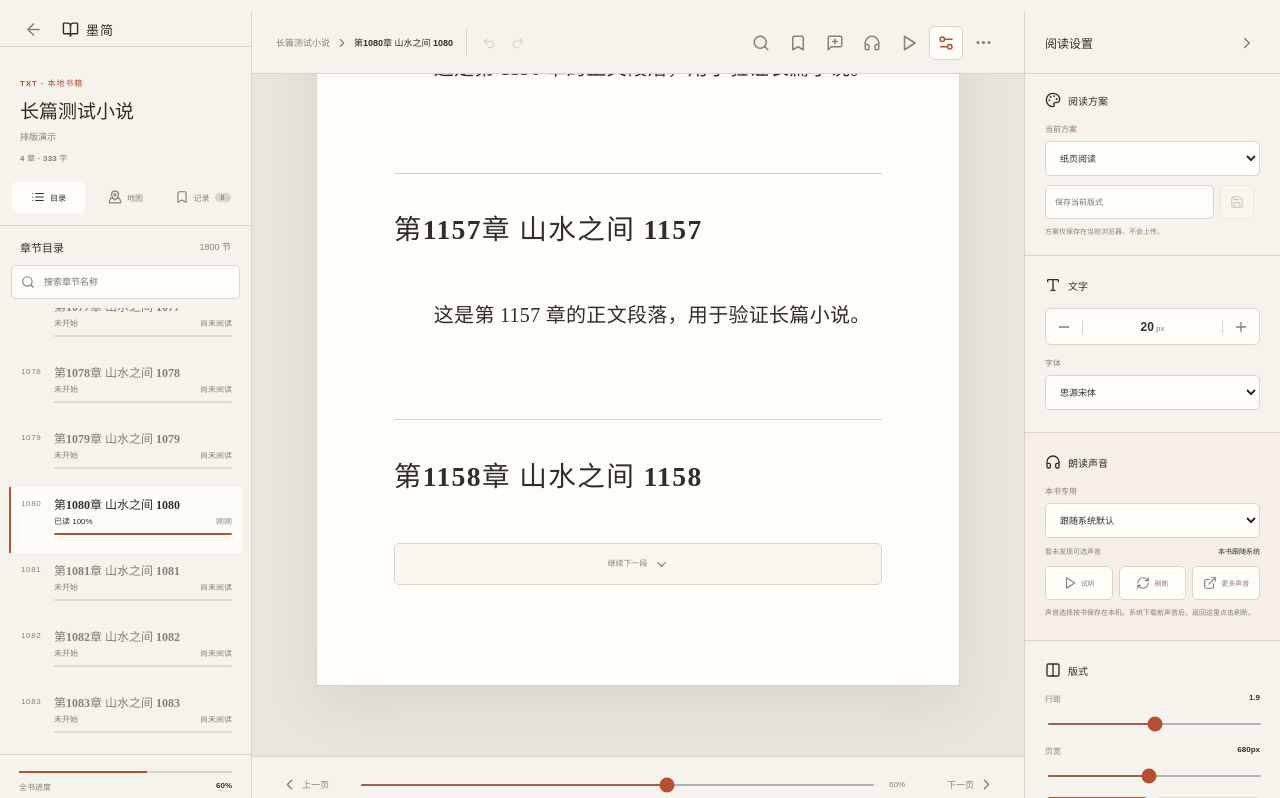
it: ReaderView interactions › renders a bounded paragraph window for very large novels and searches every chapter
The width and height of the screenshot is (1280, 798).
(page scrolled)
Expected: the button "1080 第1080章 山水之间 1080 已读 100% 刚刚" is shown, x1=9 y1=487 x2=242 y2=553
Click the button "继续下一段" at (638, 564), box x1=394 y1=543 x2=882 y2=585
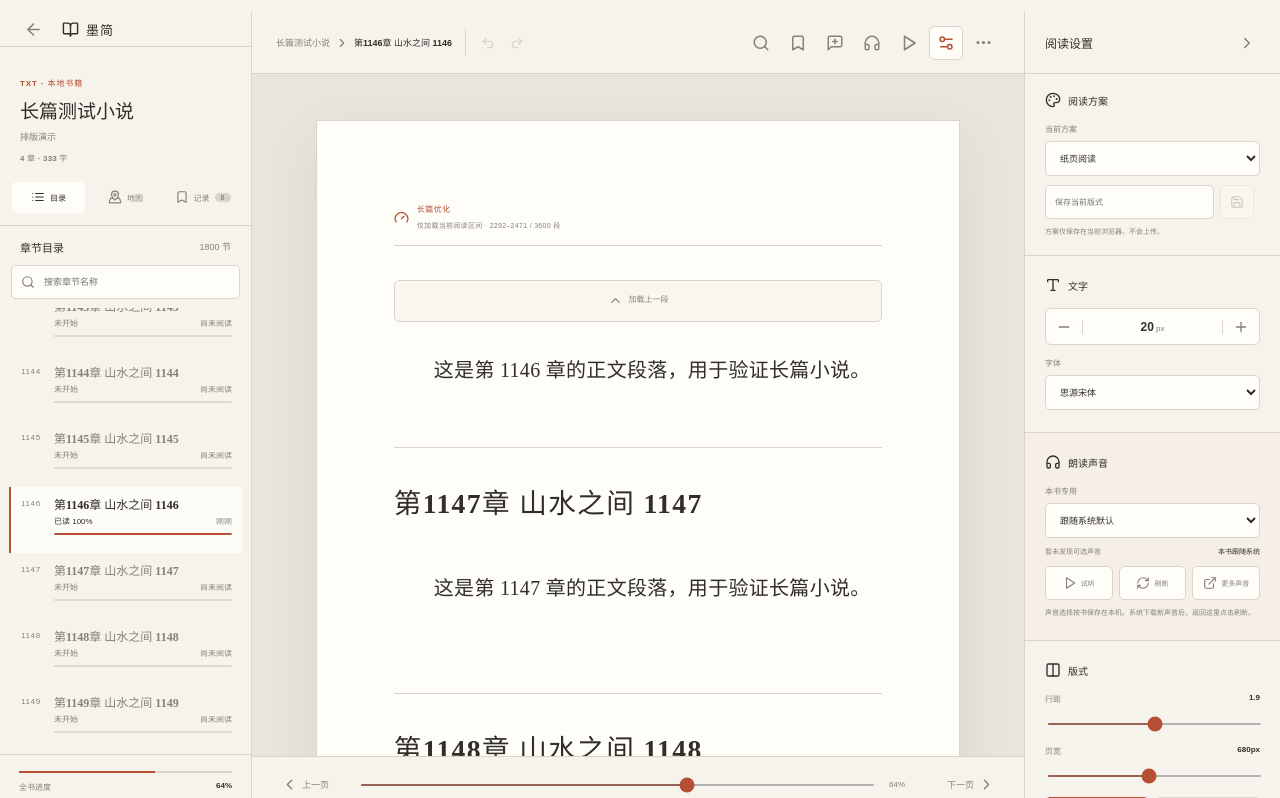
Now the button "加载上一段" is shown
Click the button "加载上一段" at (638, 301), box x1=394 y1=280 x2=882 y2=322
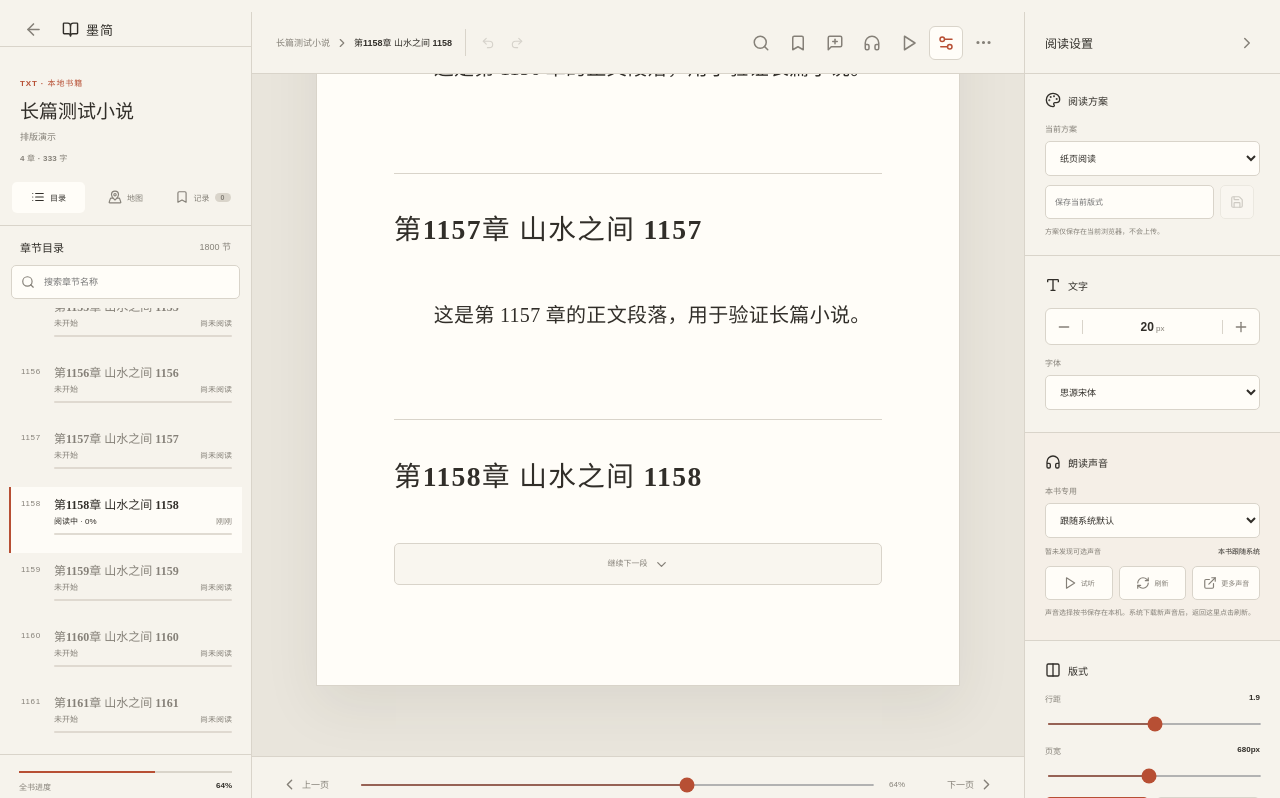
Type "第1799章" into the search field named "搜索目录" at (136, 282), box x1=42 y1=276 x2=230 y2=288
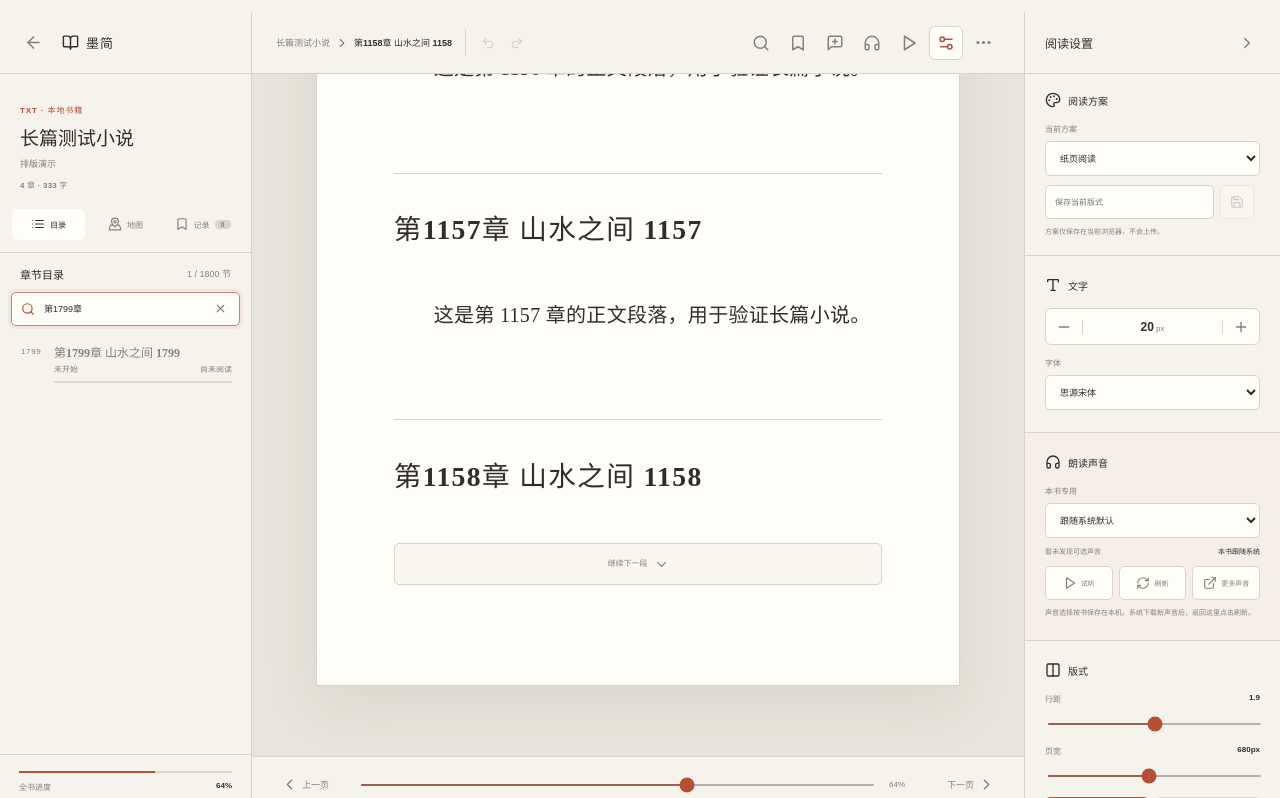
Now the text "1 / 1800 节" is shown, box x1=187 y1=267 x2=231 y2=280
Click the button "1799 第1799章 山水之间 1799 未开始 尚未阅读" at (126, 366), box x1=9 y1=335 x2=242 y2=397
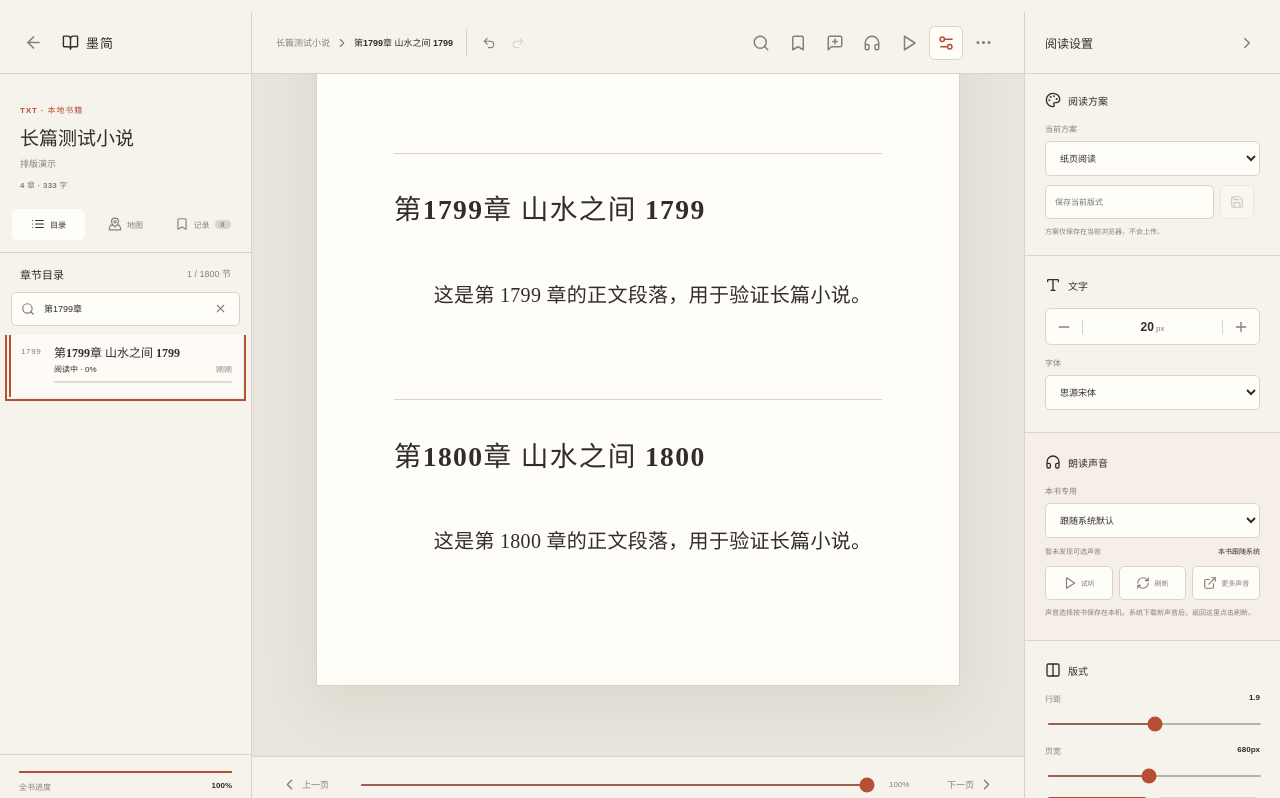
Now the heading "第1799章 山水之间 1799" is shown, box x1=394 y1=153 x2=882 y2=235
